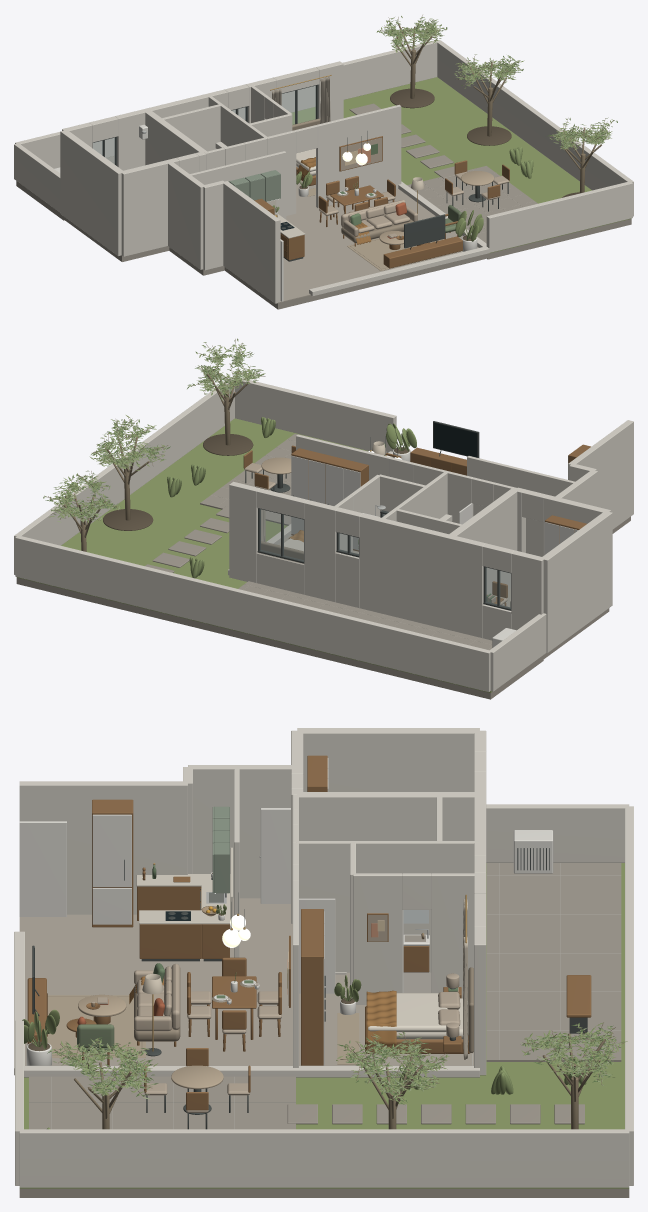
The model's file is apartment.glb.
The picture shows the model from 3 angles, top to bottom: view 1: azimuth 30°, elevation 25°; view 2: azimuth 150°, elevation 25°; view 3: azimuth 270°, elevation 25°; orthographic projection. The views are drawn at different scales.
Visible parts, largest first — view 1: Garden planting ground, Garden perimeter wall.001, Continuous ivory porcelain floor, Garden perimeter wall.002, Mamad west reinforced wall, Garden perimeter wall, Master bedroom doorway.001, Kitchen / communal stair boundary, Mamad south reinforced wall, Hall west jog, East paved living terrace, North / garden facade.001 (+32 smaller); view 2: Garden perimeter wall, Garden planting ground, North / garden facade.001, Garden perimeter wall.001, Mamad west reinforced wall, Garden perimeter wall.002, Garden foundation, Kitchen / communal stair boundary, North / garden facade.002, Kitchen short back wall, North / garden facade.003, North paved terrace (+34 smaller); view 3: Garden perimeter wall.001, North paved terrace, Continuous ivory porcelain floor, Garden planting ground, East paved living terrace, Kitchen / communal stair boundary, Mamad west reinforced wall, Main bath east partition, Mamad east reinforced wall, Hall west jog, Garden perimeter wall.003, Garden foundation (+46 smaller).
Boxes of the visible parts, x1,y1,x2,y2 form: Garden planting ground: [291, 77, 631, 253]; Garden perimeter wall.001: [437, 40, 633, 216]; Continuous ivory porcelain floor: [121, 180, 478, 303]; Garden perimeter wall.002: [486, 181, 632, 252]; Mamad west reinforced wall: [60, 130, 122, 256]; Garden perimeter wall: [15, 40, 438, 168]; Master bedroom doorway.001: [316, 104, 401, 208]; Kitchen / communal stair boundary: [222, 181, 280, 303]; Mamad south reinforced wall: [120, 158, 179, 256]; Hall west jog: [168, 161, 204, 269]; East paved living terrace: [407, 166, 537, 243]; North / garden facade.001: [115, 89, 227, 170]; Garden perimeter wall: [15, 536, 491, 691]; Garden planting ground: [16, 418, 492, 692]; North / garden facade.001: [359, 513, 485, 637]; Garden perimeter wall.001: [14, 377, 234, 574]; Mamad west reinforced wall: [541, 511, 612, 652]; Garden perimeter wall.002: [234, 377, 396, 452]; Garden foundation: [16, 577, 543, 699]; Kitchen / communal stair boundary: [568, 420, 633, 529]; North / garden facade.002: [304, 500, 339, 601]; Kitchen short back wall: [467, 456, 577, 556]; North / garden facade.003: [229, 481, 260, 582]; North paved terrace: [238, 581, 492, 650]; Garden perimeter wall.001: [19, 1129, 629, 1187]; North paved terrace: [486, 863, 621, 1061]; Continuous ivory porcelain floor: [19, 898, 473, 1065]; Garden planting ground: [19, 863, 629, 1188]; East paved living terrace: [29, 1076, 295, 1129]; Kitchen / communal stair boundary: [19, 781, 187, 914]; Mamad west reinforced wall: [297, 728, 479, 791]; Main bath east partition: [296, 841, 479, 972]; Mamad east reinforced wall: [297, 792, 479, 840]; Hall west jog: [188, 765, 296, 898]; Garden perimeter wall.003: [486, 804, 629, 862]; Garden foundation: [19, 1188, 629, 1197].
Size of the model in its own units: 15.62 by 3.11 by 12.28.
